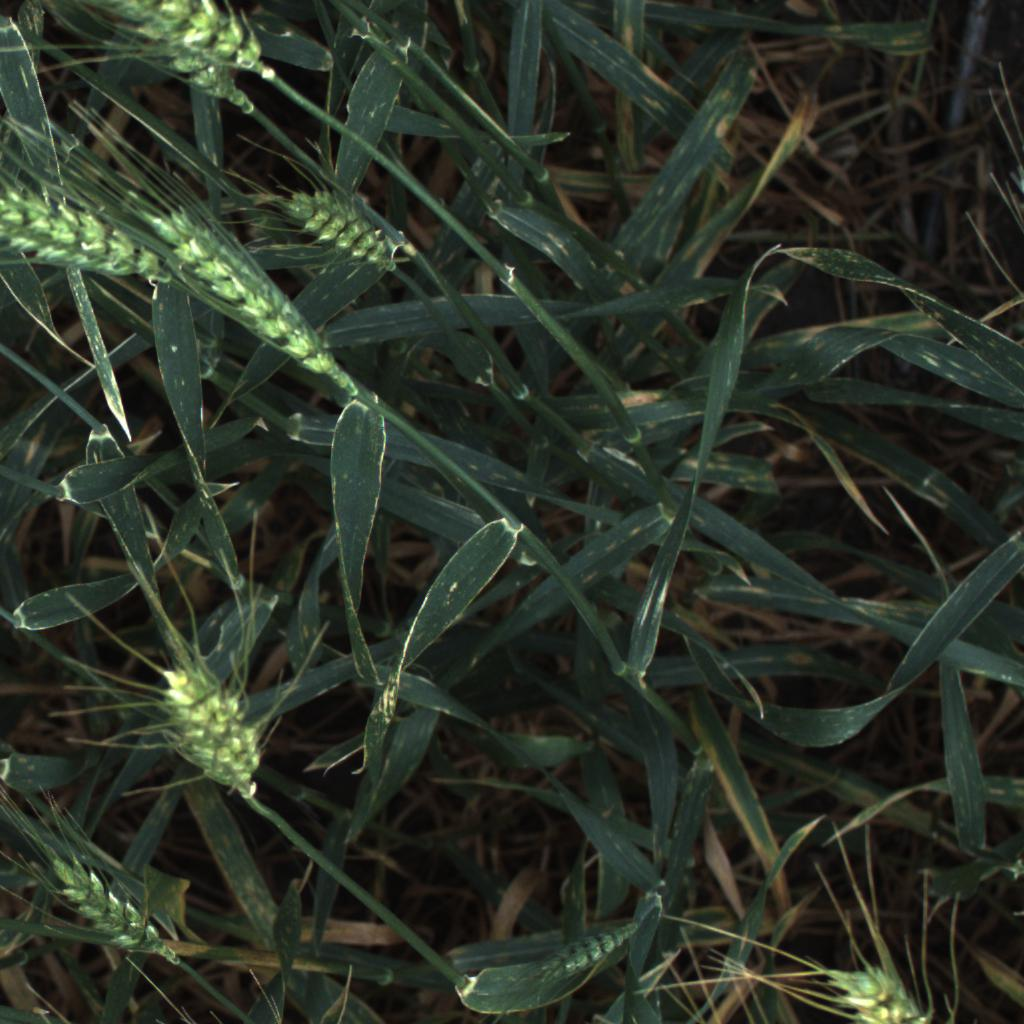0-0: (141, 188, 348, 387), (0, 178, 173, 295), (155, 655, 278, 815), (43, 852, 177, 965), (269, 178, 419, 274), (135, 0, 286, 94), (513, 914, 659, 1003), (808, 954, 965, 1024), (153, 33, 262, 115)
